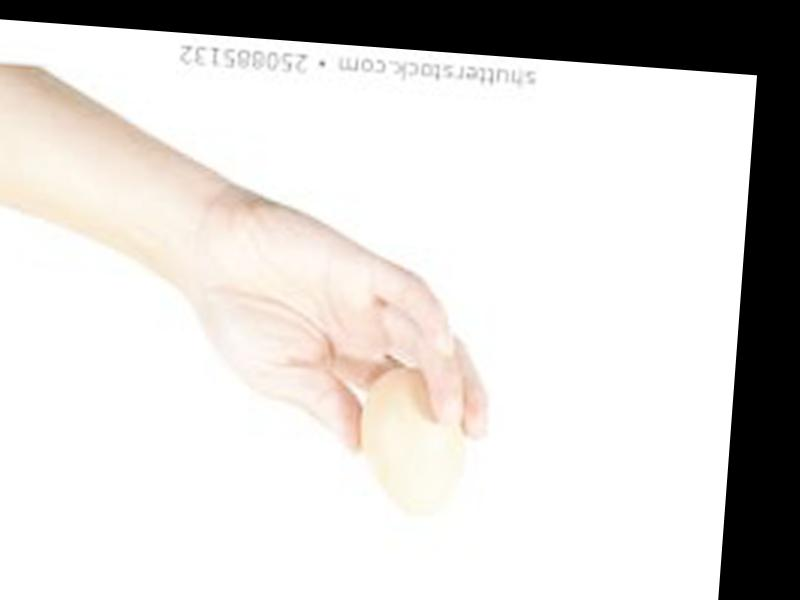Eggs: (354, 359, 471, 521)
